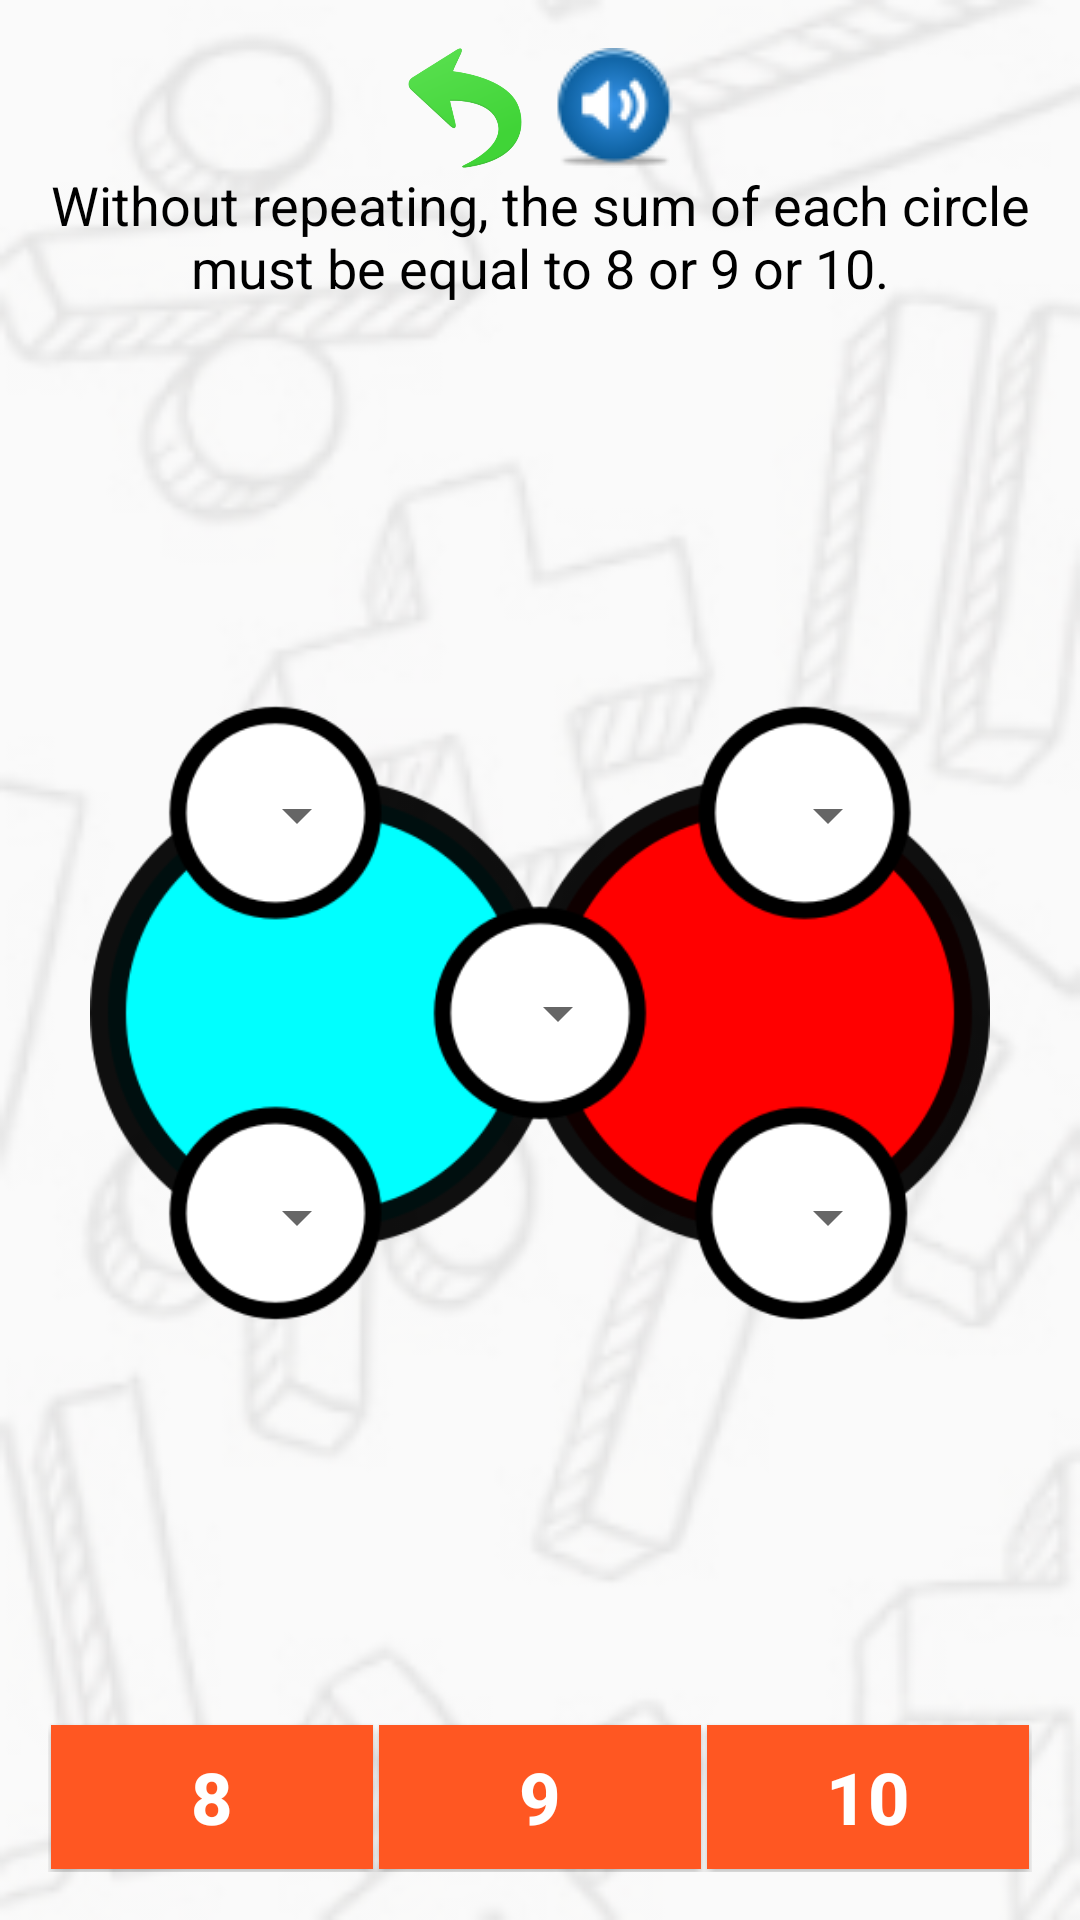

Named icons in this screenshot (1080 × 1920) and their centers, (x=x, y=y):
som: (x=614, y=107)
voltar: (x=465, y=108)
